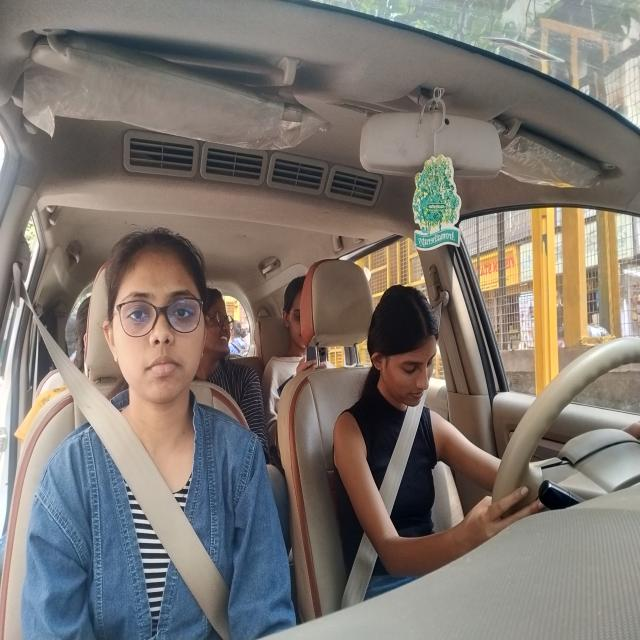drowsy: (363, 284, 446, 422)
person: (99, 209, 218, 426), (269, 268, 314, 364), (204, 262, 239, 379)
